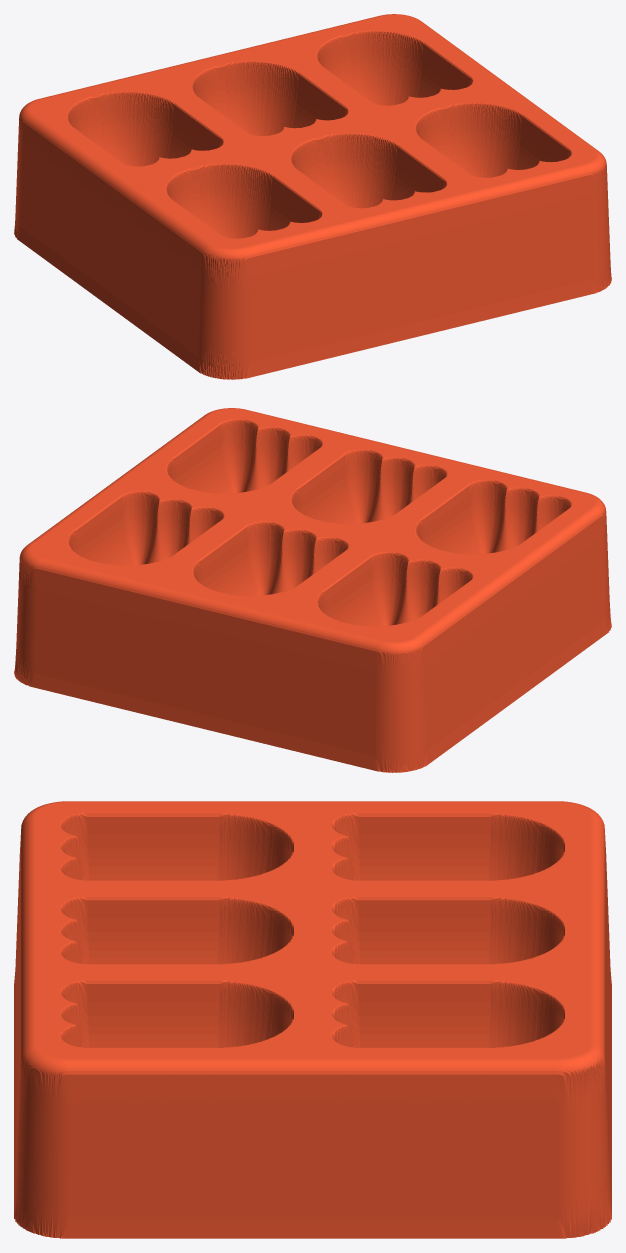
Rendered from mold.glb.
The picture shows the model from 3 angles, top to bottom: view 1: azimuth 30°, elevation 25°; view 2: azimuth 150°, elevation 25°; view 3: azimuth 270°, elevation 25°; orthographic projection. The views are drawn at different scales.
Parts seen in each view (by area): view 1: geometry_0; view 2: geometry_0; view 3: geometry_0.
Part boxes in pixels (left/top/right/bottom): geometry_0: left=14, top=14, right=611, bottom=379; geometry_0: left=14, top=408, right=611, bottom=772; geometry_0: left=14, top=801, right=611, bottom=1238.
Size of the model in its own units: 0.1081 by 0.0314 by 0.0996.
